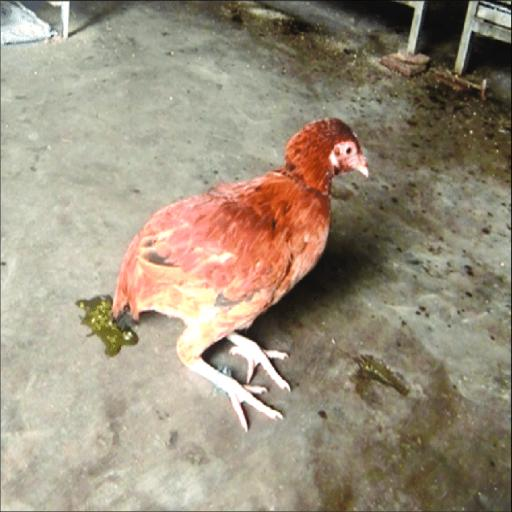disease: (329, 132, 372, 172)
